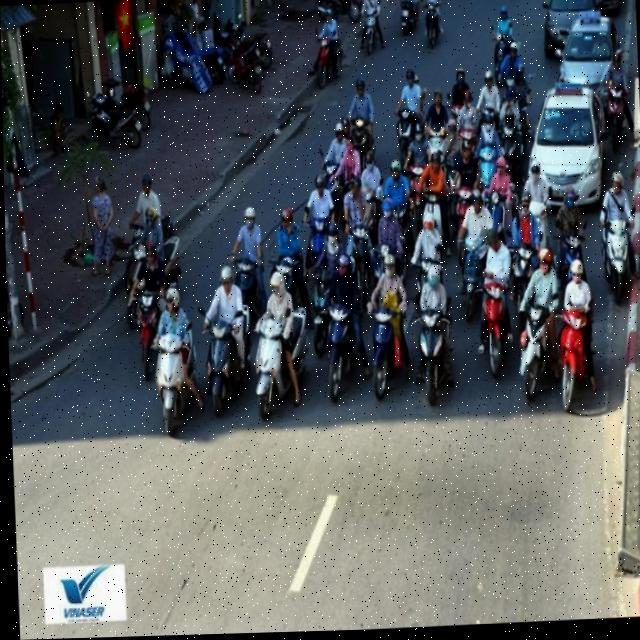car: (531, 82, 605, 221), (552, 20, 615, 107), (538, 0, 601, 60), (585, 0, 627, 12)
motorcycle: (405, 260, 456, 410), (247, 296, 304, 425), (315, 267, 364, 404), (359, 267, 407, 404), (542, 291, 594, 412), (147, 326, 200, 436), (515, 289, 561, 407), (470, 267, 515, 386), (202, 309, 245, 424), (597, 192, 638, 300), (88, 85, 153, 150), (233, 34, 273, 93), (310, 33, 339, 87), (394, 109, 419, 159), (344, 116, 374, 156), (358, 5, 381, 55), (420, 0, 441, 51), (396, 0, 419, 37)
